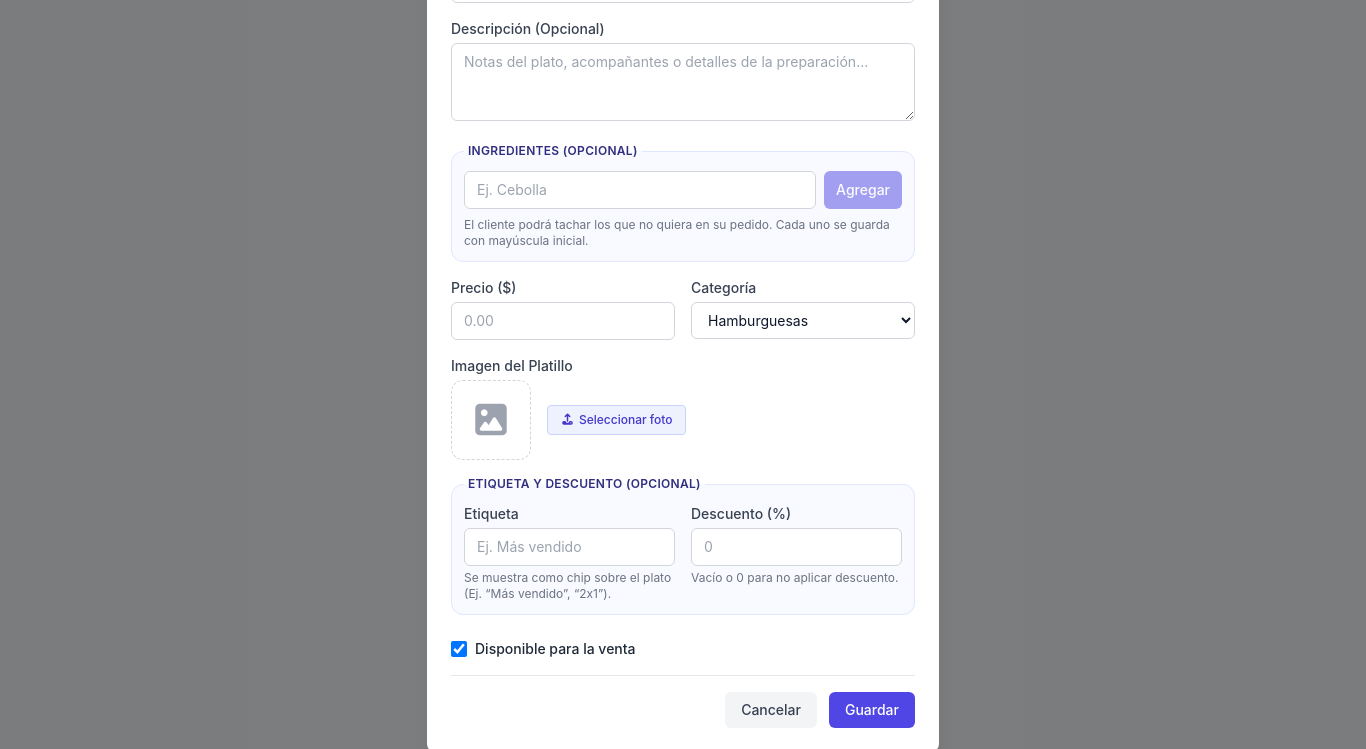
Test: DishFormModal › muestra mensaje de error si se intenta guardar un formulario inválido
(page scrolled)
Note: Intentar guardar con campos vacíos
What coordinates should you click on to do the following:
click the button "Guardar"
I would click on:
 (872, 710)
Its box is [829, 692, 915, 728].
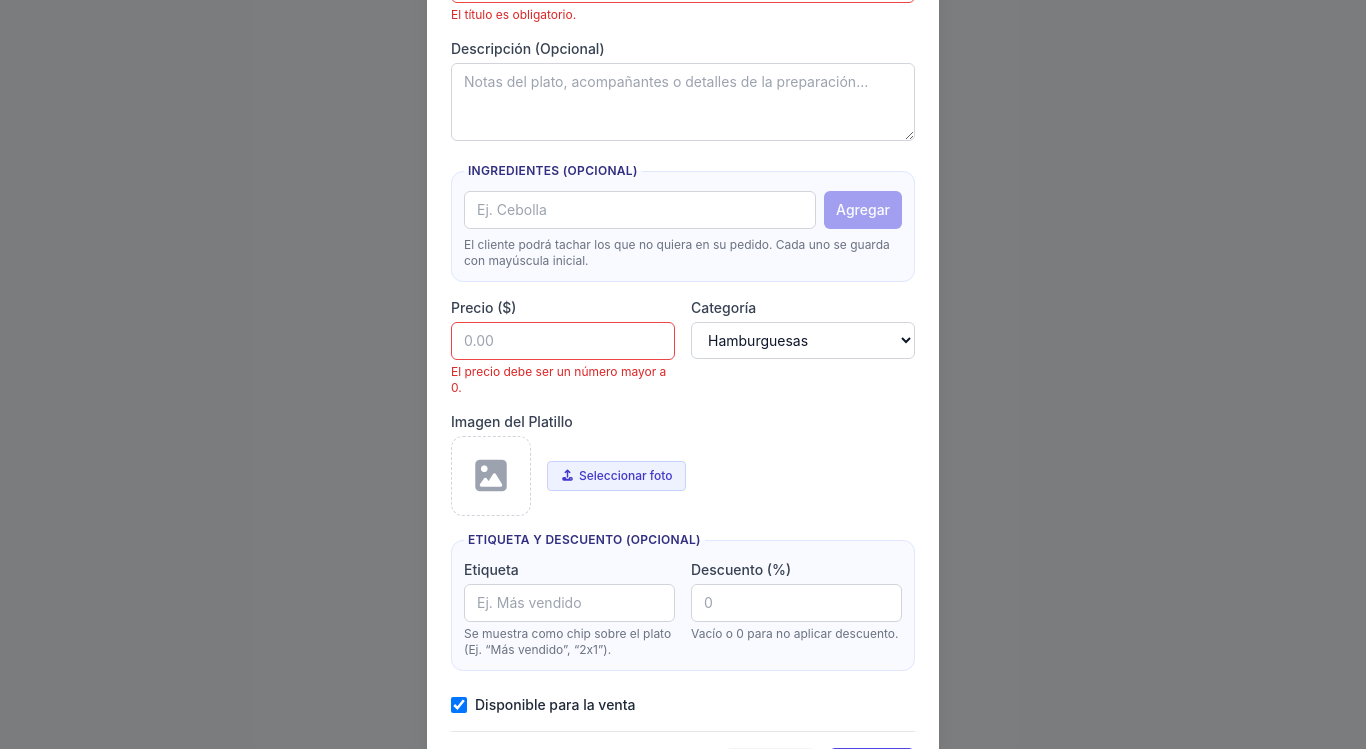
Now the text "El título es obligatorio." is shown, box [451, 7, 576, 22]
